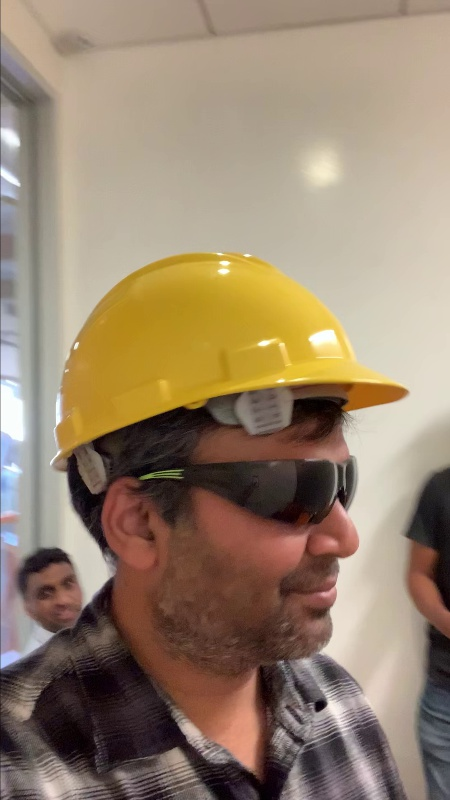glasses: (200, 458, 366, 520)
helmet: (52, 252, 379, 418)
